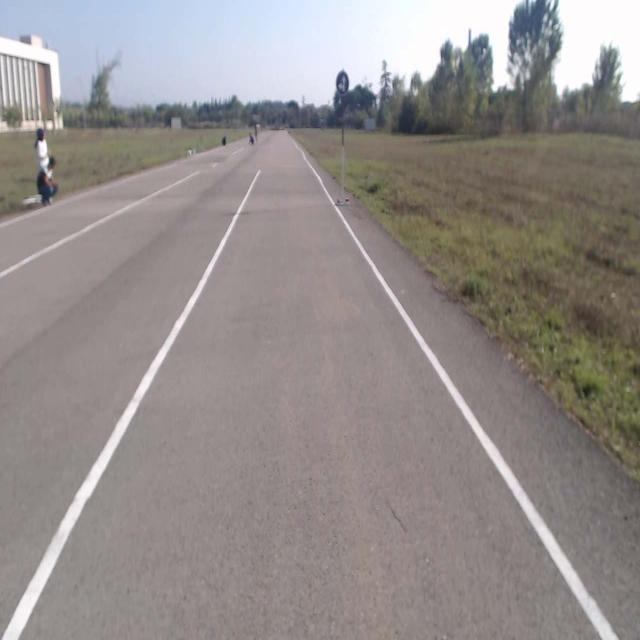ilerisol: (336, 70, 349, 94)
